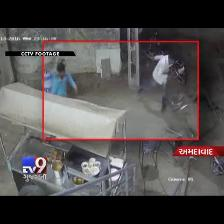person: (52, 63, 77, 97)
